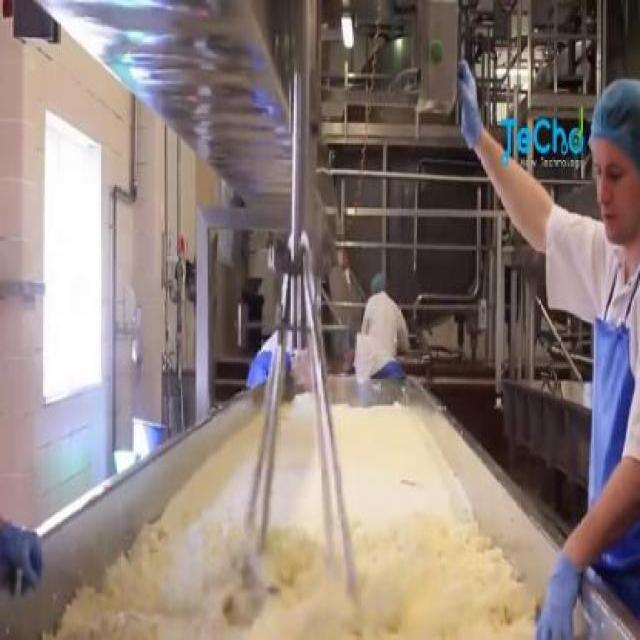hairnet: (596, 79, 639, 168), (372, 268, 388, 295)
